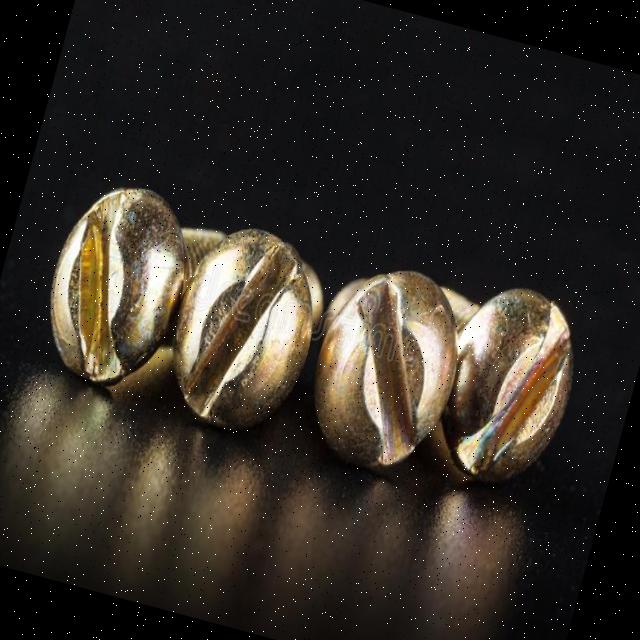Slotted: (22, 145, 210, 402), (152, 198, 342, 450), (292, 238, 482, 488), (425, 278, 597, 510)
